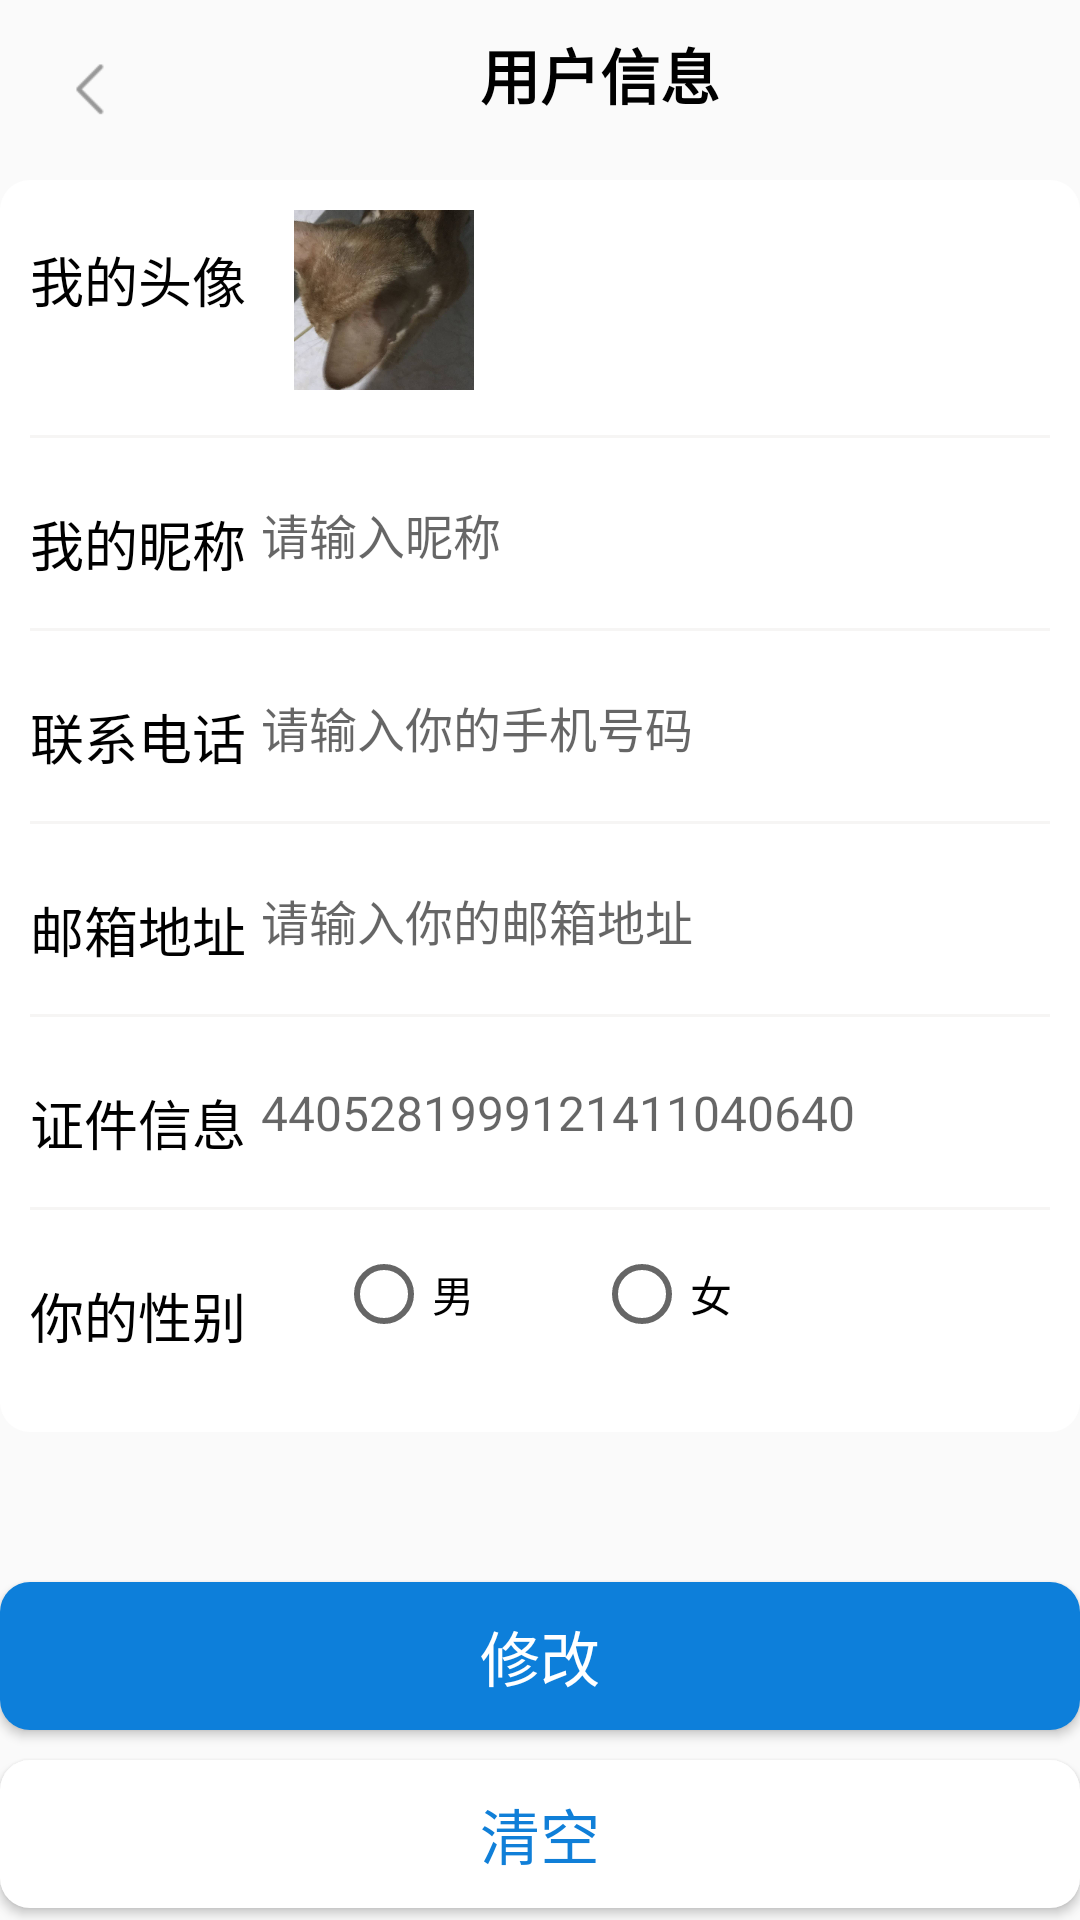

Icon click points for this 1080px×1920px phone screenshot, format (x,y):
top bar left back: (90,89)
